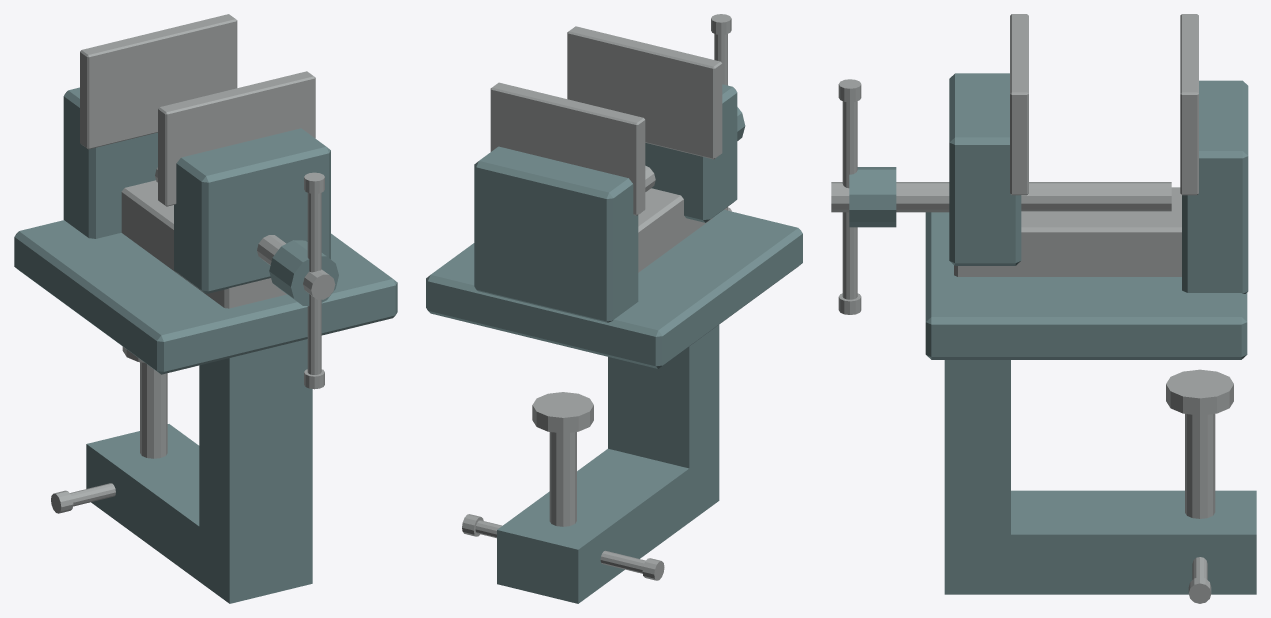
3 renders of one model, left to right at view 1: azimuth 30°, elevation 25°; view 2: azimuth 150°, elevation 25°; view 3: azimuth 270°, elevation 25°, orthographic. The views are drawn at different scales.
Parts seen in each view (by area): view 1: Continuous table edge C frame, Upper table bearing base, Sliding front jaw support, Fixed flat steel jaw, Sliding flat steel jaw, Fixed rear jaw support, Rectangular slide guide, Lower clamp spindle, Main cross handle, Main screw front boss, Visible main screw, Lower clamp cross handle; view 2: Continuous table edge C frame, Upper table bearing base, Fixed rear jaw support, Sliding flat steel jaw, Fixed flat steel jaw, Sliding front jaw support, Rectangular slide guide, Lower clamp spindle, Lower table pressure pad, Lower clamp cross handle, Main cross handle; view 3: Continuous table edge C frame, Upper table bearing base, Sliding front jaw support, Fixed rear jaw support, Rectangular slide guide, Visible main screw, Fixed flat steel jaw, Sliding flat steel jaw, Lower clamp spindle, Main screw front boss, Lower table pressure pad, Main cross handle.
Boxes of the visible parts, x1=… form: Continuous table edge C frame: x1=86, y1=339, x2=312, y2=603; Upper table bearing base: x1=14, y1=220, x2=397, y2=374; Sliding front jaw support: x1=174, y1=128, x2=330, y2=293; Fixed flat steel jaw: x1=80, y1=14, x2=237, y2=149; Sliding flat steel jaw: x1=158, y1=71, x2=315, y2=206; Fixed rear jaw support: x1=63, y1=87, x2=157, y2=238; Rectangular slide guide: x1=121, y1=180, x2=286, y2=308; Lower clamp spindle: x1=140, y1=362, x2=167, y2=458; Main cross handle: x1=307, y1=192, x2=321, y2=374; Main screw front boss: x1=269, y1=240, x2=338, y2=306; Visible main screw: x1=155, y1=167, x2=335, y2=299; Lower clamp cross handle: x1=70, y1=483, x2=115, y2=506; Continuous table edge C frame: x1=497, y1=325, x2=719, y2=603; Upper table bearing base: x1=426, y1=209, x2=802, y2=368; Fixed rear jaw support: x1=474, y1=146, x2=638, y2=322; Sliding flat steel jaw: x1=567, y1=26, x2=722, y2=159; Fixed flat steel jaw: x1=490, y1=82, x2=645, y2=215; Sliding front jaw support: x1=645, y1=84, x2=737, y2=222; Rectangular slide guide: x1=638, y1=188, x2=712, y2=272; Lower clamp spindle: x1=549, y1=432, x2=576, y2=526; Lower table pressure pad: x1=532, y1=392, x2=593, y2=433; Lower clamp cross handle: x1=475, y1=520, x2=645, y2=573; Main cross handle: x1=714, y1=34, x2=727, y2=210; Continuous table edge C frame: x1=944, y1=360, x2=1256, y2=594; Upper table bearing base: x1=925, y1=212, x2=1247, y2=359; Sliding front jaw support: x1=949, y1=73, x2=1021, y2=265; Fixed rear jaw support: x1=1182, y1=80, x2=1248, y2=293; Rectangular slide guide: x1=954, y1=187, x2=1181, y2=276; Visible main screw: x1=831, y1=182, x2=1171, y2=212; Fixed flat steel jaw: x1=1180, y1=14, x2=1198, y2=195; Sliding flat steel jaw: x1=1010, y1=14, x2=1028, y2=195; Lower clamp spindle: x1=1185, y1=414, x2=1215, y2=518; Main screw front boss: x1=849, y1=167, x2=896, y2=227; Lower table pressure pad: x1=1166, y1=369, x2=1233, y2=415; Main cross handle: x1=842, y1=101, x2=857, y2=299.
Bounding box in the file's own units: 0.16 × 0.303 × 0.225.
